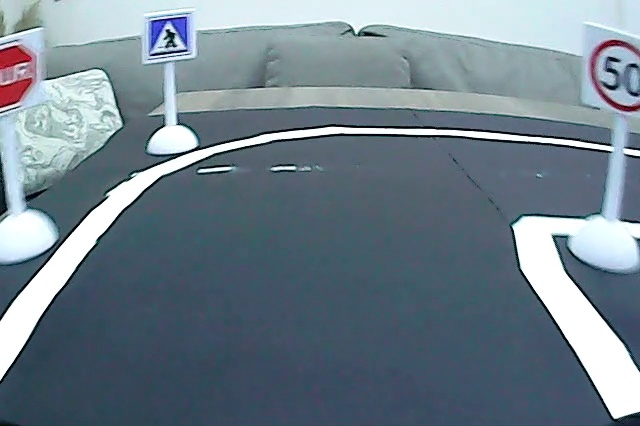pedestrian crossing: (145, 15, 193, 57)
speed limit 50: (587, 34, 640, 116)
